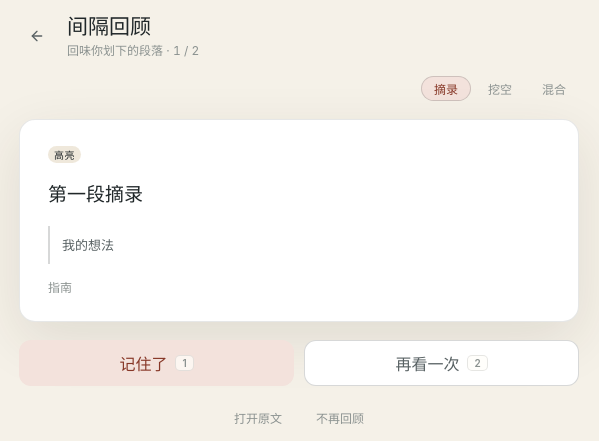
ReviewView cards (R1) › renders excerpt, note and source, then advances on 记住了 with a box upgrade
Expected: the text "第一段摘录" is shown, [48,184,143,205]
Expected: the text "我的想法" is shown, [48,226,126,264]
Click the button "记住了 1".
click(156, 363)  # box [19,340,294,386]
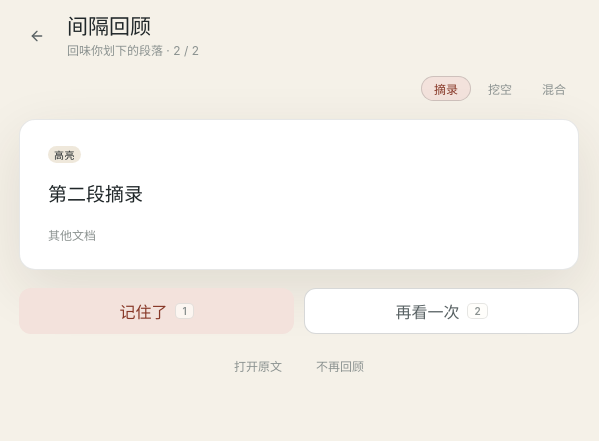
Now the text "第二段摘录" is shown, box [48,184,143,205]
Now the text "回味你划下的段落 · 2 / 2" is shown, box [67,43,199,58]
